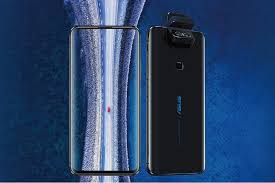asus: (145, 25, 208, 176)
